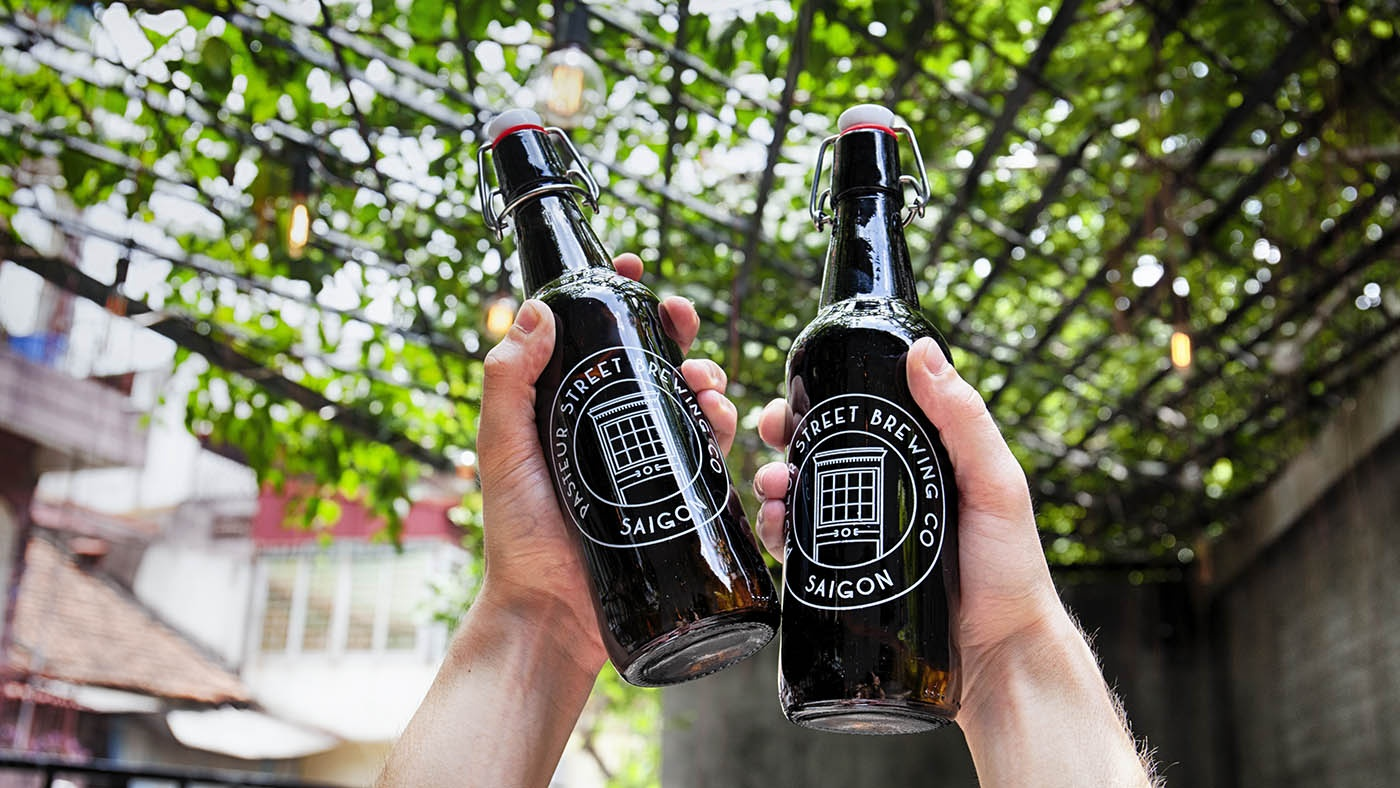beerBottle: (491, 122, 770, 684), (783, 125, 953, 716)
